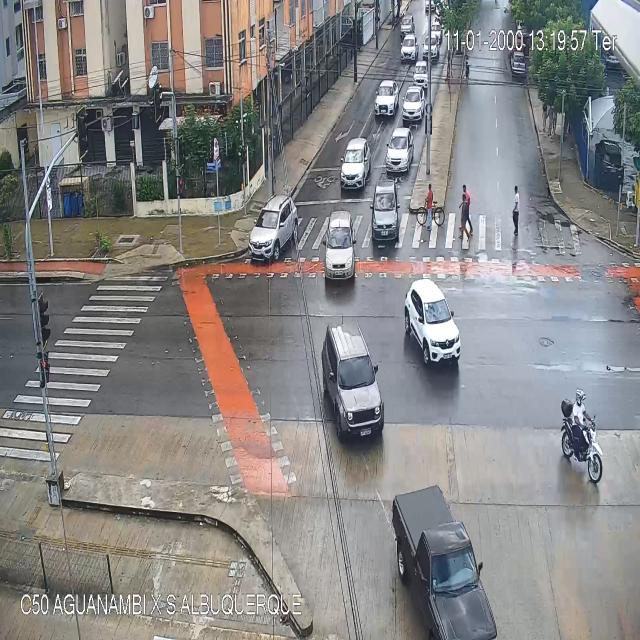Car: (393, 486, 498, 640), (322, 320, 386, 442), (405, 277, 461, 364), (250, 194, 297, 260), (322, 208, 358, 282), (342, 138, 370, 191), (386, 128, 414, 172), (375, 79, 399, 115), (403, 85, 425, 122), (423, 34, 438, 64), (429, 18, 445, 41), (414, 58, 429, 82), (402, 36, 418, 58), (512, 51, 526, 76), (400, 14, 414, 36), (425, 1, 435, 16)
Motorcycle: (560, 388, 604, 484)
